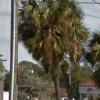Palm tree: (28, 2, 89, 96)
